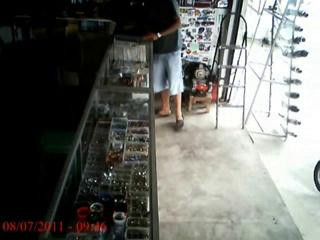Normal: (142, 0, 185, 130)
